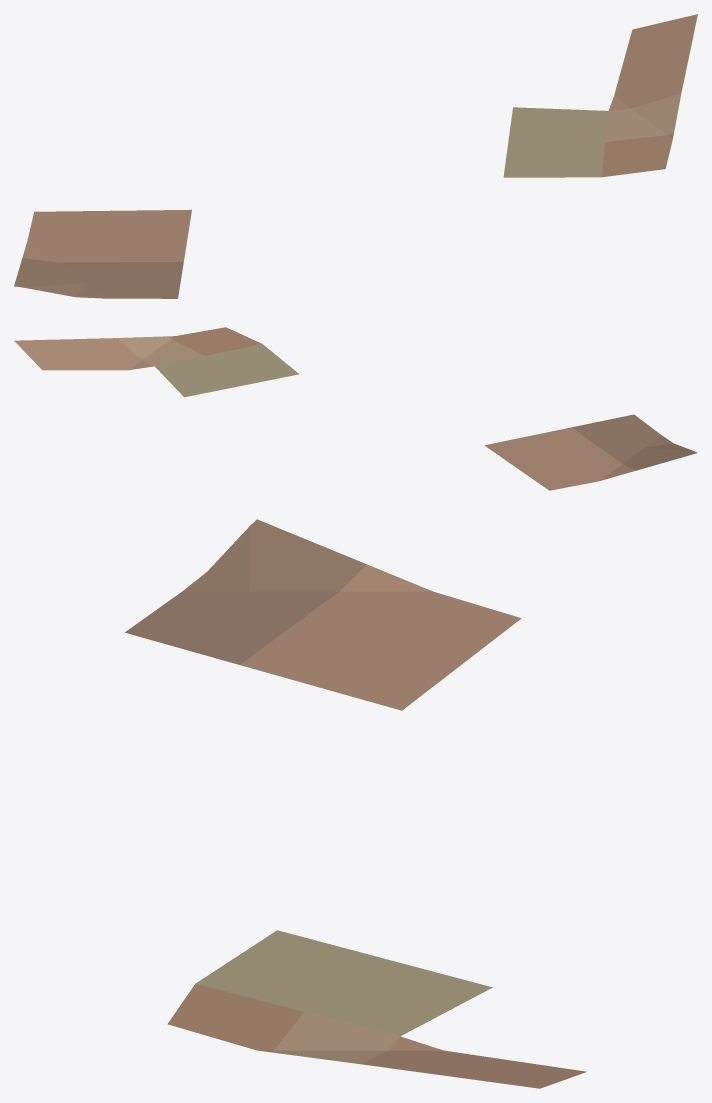
Rendered from farm_-16_-22_soil.glb.
3 views of the same model, one above another, from view 1: azimuth 30°, elevation 25°; view 2: azimuth 150°, elevation 25°; view 3: azimuth 270°, elevation 25° (orthographic). The views are drawn at different scales.
Visible parts, largest first — view 1: geometry_0; view 2: geometry_0; view 3: geometry_0.
Part boxes in pixels (left/top/right/bottom): geometry_0: left=14, top=14, right=697, bottom=298; geometry_0: left=14, top=327, right=697, bottom=490; geometry_0: left=125, top=519, right=586, bottom=1088.
Size of the model in its own units: 315 by 13.76 by 103.
